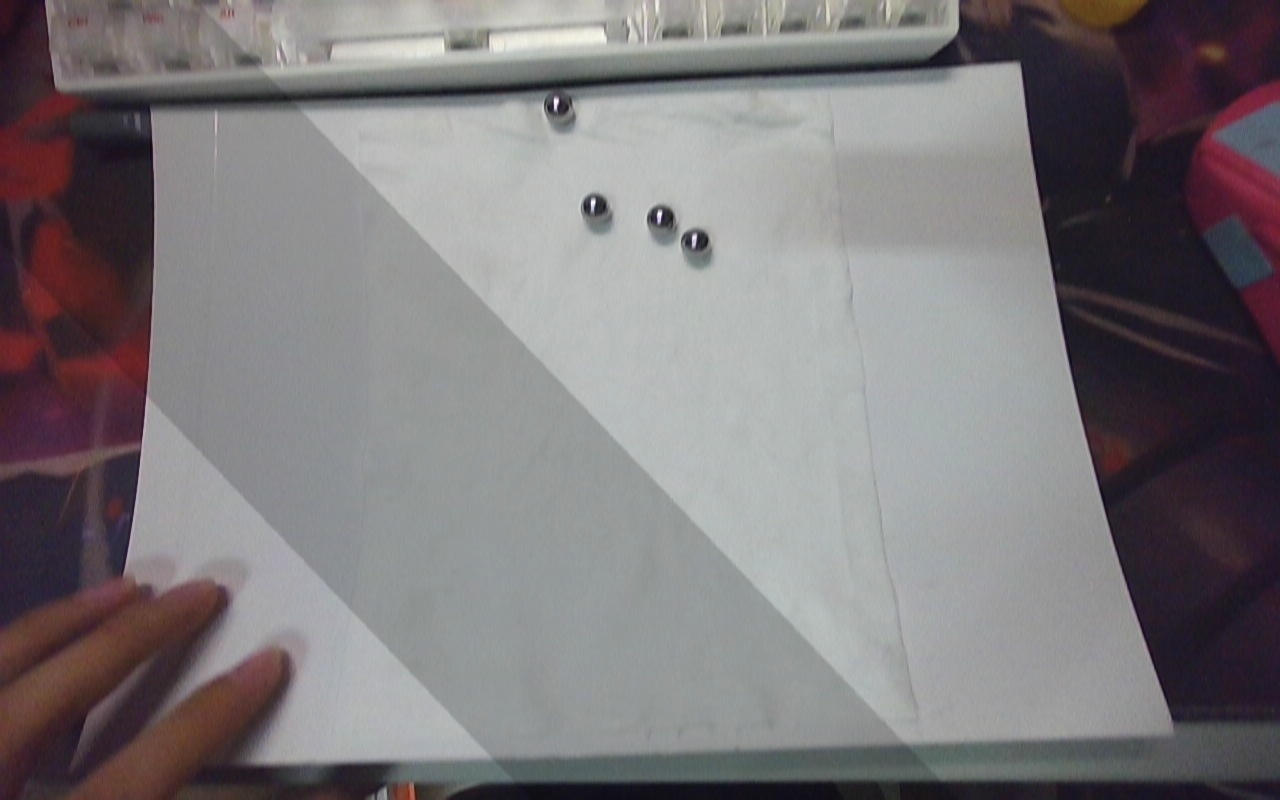ball: (677, 223, 719, 265), (577, 185, 616, 229), (538, 87, 579, 127), (643, 200, 681, 239)
